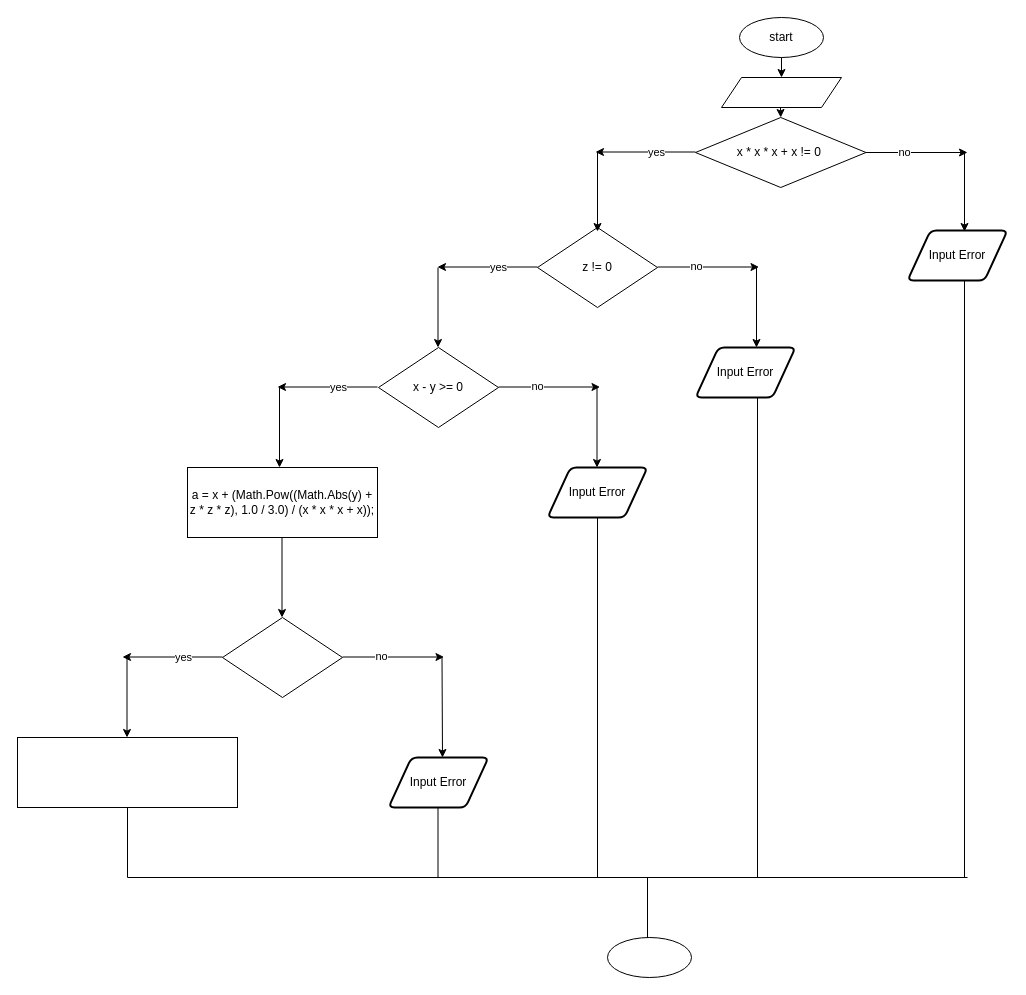
This 1026x995 diagram has some shape labels left out. The box of each missing label's shape, as (x1, y1, x2, y2) in pixels:
a * a != 0: (222, 616, 342, 698)
b = ((Math.Sqrt(x - y) / z)) + 1 / (a * a);: (16, 736, 238, 808)
end: (606, 936, 692, 978)
x,y,z є R: (720, 76, 842, 108)
